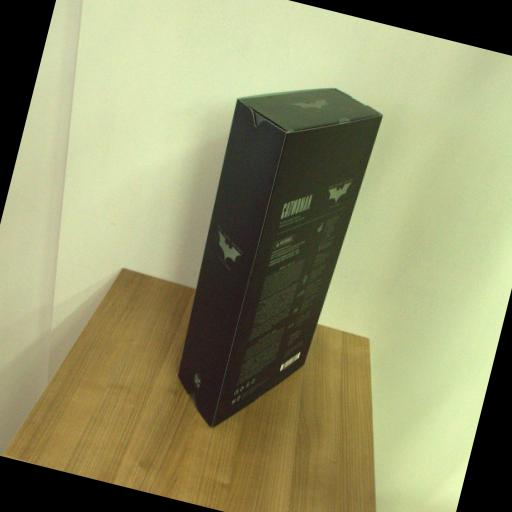catwoman: (160, 66, 388, 450)
